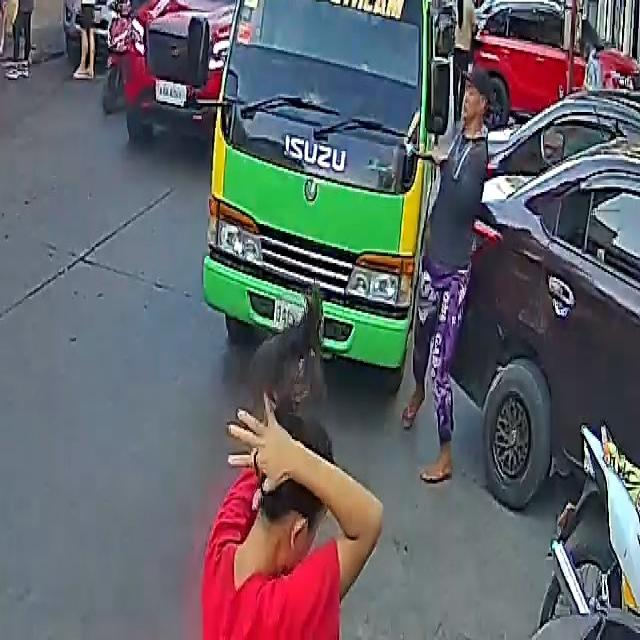car: (425, 131, 640, 524), (466, 0, 640, 117), (132, 0, 267, 130), (60, 0, 190, 57)
